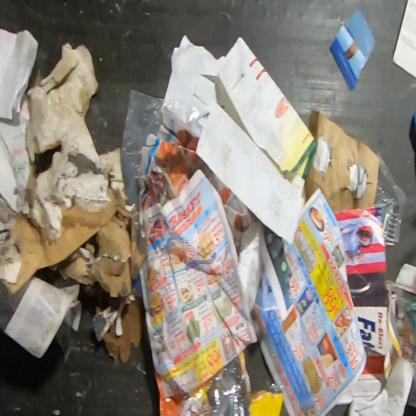cardboard: (15, 41, 130, 240), (0, 187, 139, 296), (50, 212, 148, 298), (301, 110, 379, 212), (345, 272, 390, 398)
rigid_plastic: (374, 151, 408, 247)
soft_plastic: (121, 88, 210, 214), (207, 355, 286, 416)
